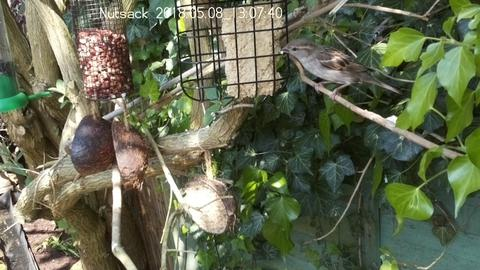sparrow: (278, 38, 404, 105)
